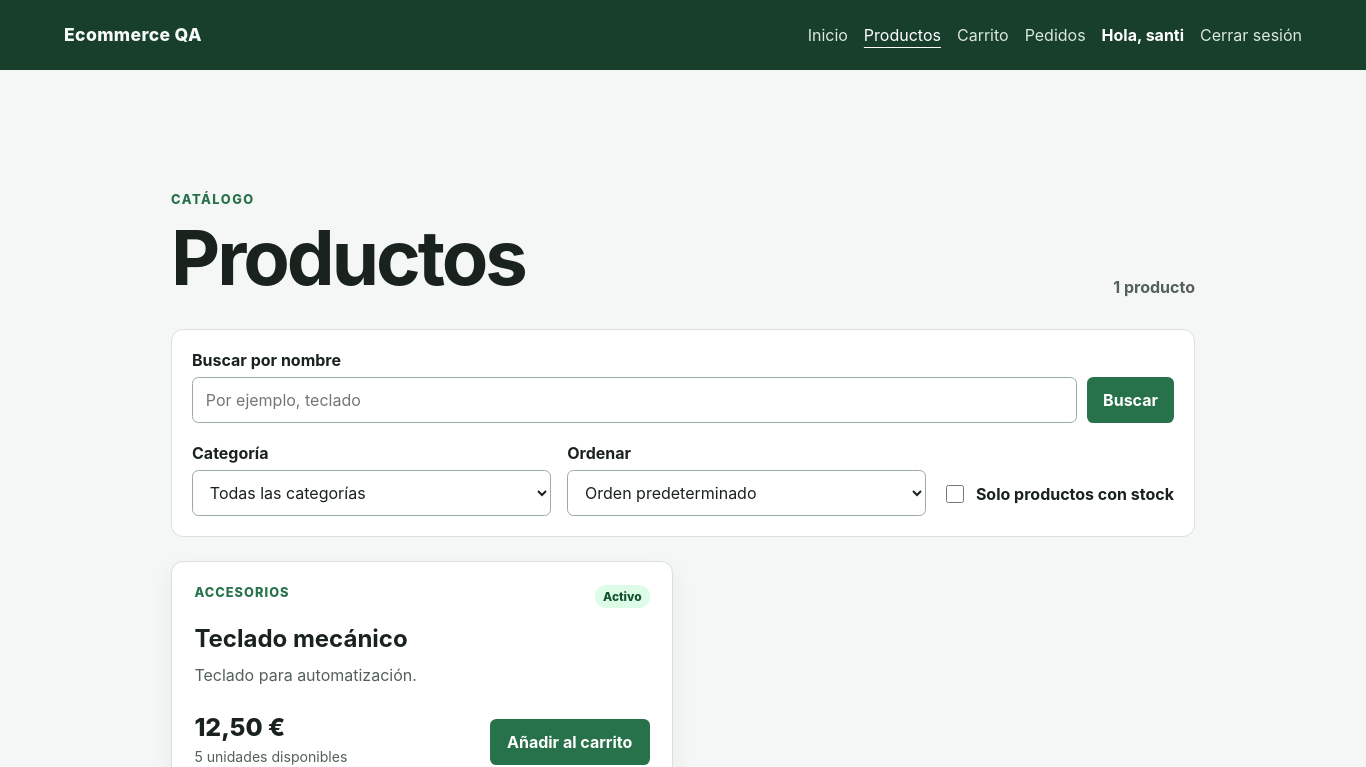
Test case: carrito › muestra el error de stock devuelto por el backend
The image size is (1366, 767).
Step 1. Click the button "Añadir al carrito" → point(570, 742), box top-left (490, 720), bottom-right (650, 765)
(page scrolled)
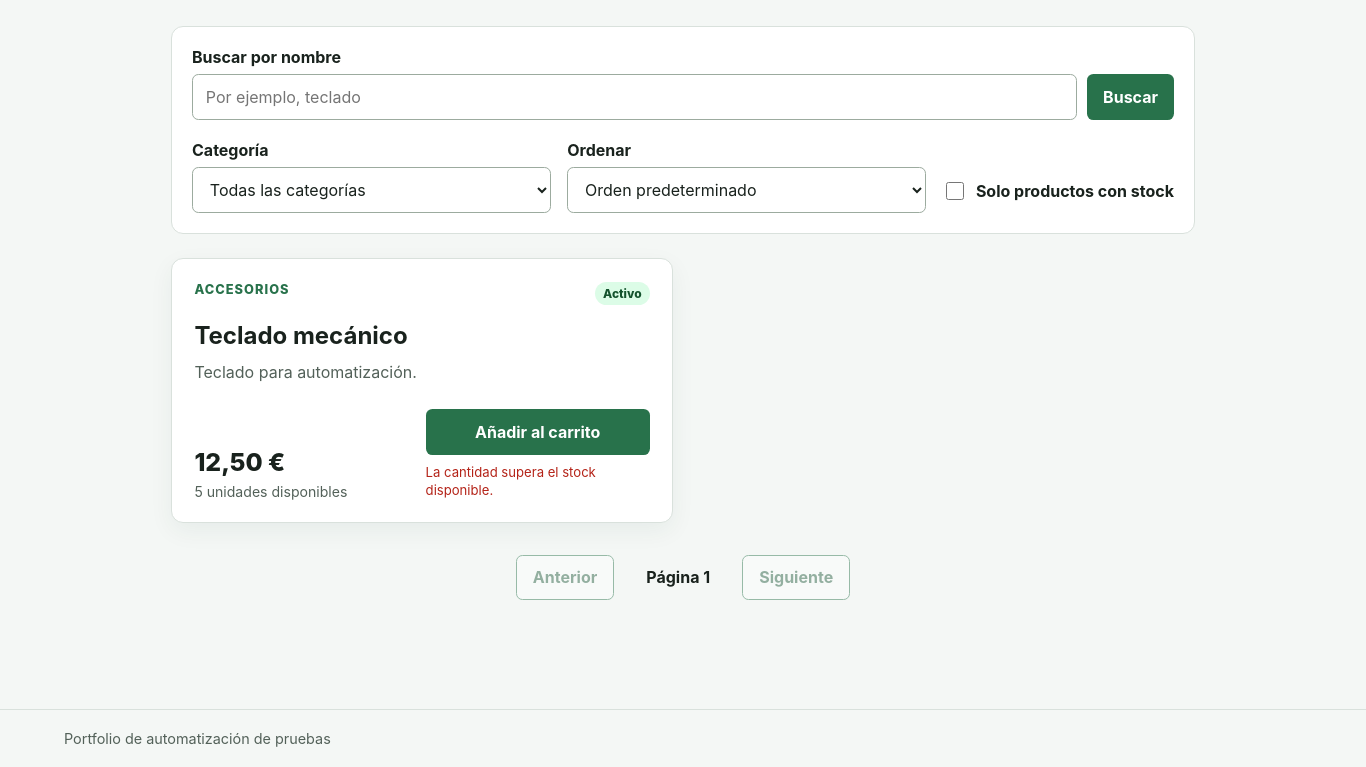
Check: the message reads "La cantidad supera el stock disponible.", box top-left (426, 464), bottom-right (596, 498)
